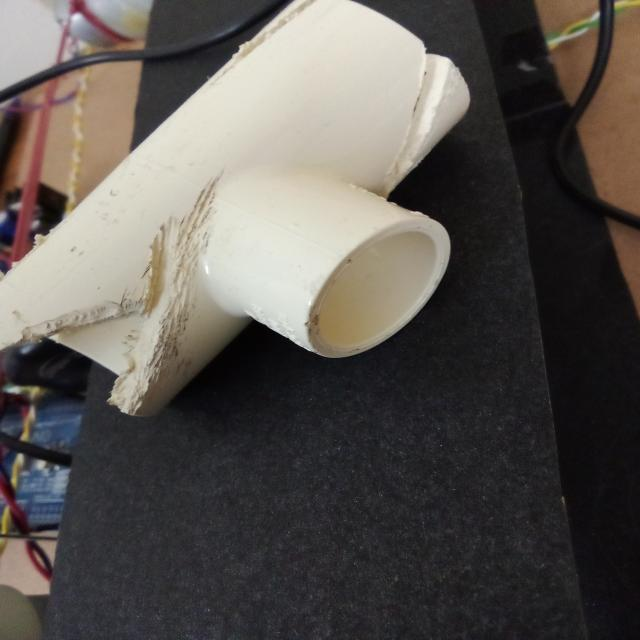Defective: (143, 177, 219, 355), (386, 52, 470, 194), (218, 0, 334, 76), (50, 314, 139, 378)
T Joint: (0, 0, 472, 421)
